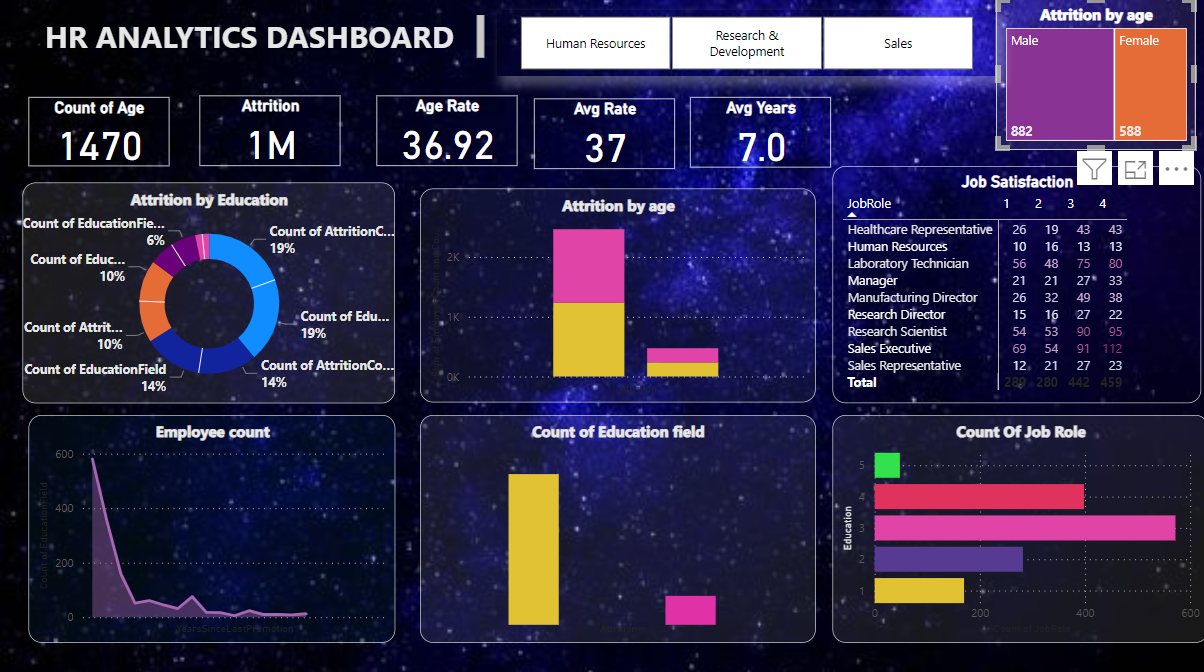

The dashboard page shown, as its layout file describes it:
{"tool":"powerbi","page":{"name":"Page 1","canvas":[1280,720],"ordinal":0},"visuals":[{"type":"card","title":"Count of Age","fields":{"Values":["CountNonNull(hr analytics (2).Age)"]},"box":[30.2,107.6,149.1,73.6],"z":0},{"type":"card","title":"Attrition","fields":{"Values":["Sum(hr analytics (2).DailyRate)"]},"box":[211.4,106.5,149.4,74.7],"z":1000},{"type":"card","title":"Age Rate","fields":{"Values":["hr analytics (2).agerate"]},"box":[398.9,106.5,149.4,74.7],"z":2000},{"type":"card","title":"Avg Rate","fields":{"Values":["Avg(hr analytics (2).Age)"]},"box":[565.8,109.7,149.4,74.7],"z":3000},{"type":"card","title":"Avg Years","fields":{"Values":["Avg(hr analytics (2).YearsAtCompany)"]},"box":[731.1,108.1,149.4,74.7],"z":4000},{"type":"donutChart","title":"Attrition by Education","fields":{"Y":["CountNonNull(hr analytics (2).AttritionCount)","CountNonNull(hr analytics (2).EducationField)"],"Category":["hr analytics (2).Education","hr analytics (2).Attrition"]},"box":[24.5,198.2,394.6,234.1],"z":5000},{"type":"columnChart","title":"Attrition by age","fields":{"Y":["Sum(hr analytics (2).EmployeeCount)","CountNonNull(hr analytics (2).EducationField)"],"Category":["hr analytics (2).Attrition"]},"box":[445.5,205.8,419.1,226.5],"z":6000},{"type":"pivotTable","title":"Job Satisfaction","fields":{"Rows":["hr analytics (2).JobRole"],"Columns":["hr analytics (2).JobSatisfaction"],"Values":["Sum(hr analytics (2).EmployeeCount)"]},"box":[881.7,181.2,390.8,251.1],"z":7000},{"type":"stackedAreaChart","title":"Employee count","fields":{"Category":["hr analytics (2).YearsSinceLastPromotion"],"Y":["CountNonNull(hr analytics (2).EducationField)"]},"box":[30.2,445.5,388.9,241.7],"z":8000},{"type":"clusteredBarChart","title":"Count Of Job Role","fields":{"Y":["CountNonNull(hr analytics (2).JobRole)"],"Category":["hr analytics (2).Education"]},"box":[881.7,445.5,398.3,241.7],"z":9000},{"type":"ribbonChart","title":"Count of Education field","fields":{"Category":["hr analytics (2).Attrition"],"Y":["Sum(hr analytics (2).EmployeeCount)"]},"box":[445.5,445.5,419.1,241.7],"z":10000},{"type":"treemap","title":"Attrition by age","fields":{"Group":["hr analytics (2).Gender"],"Values":["CountNonNull(hr analytics (2).AttritionCount)"]},"box":[1055.3,3.8,211.4,160.5],"z":11000},{"type":"slicer","fields":{"Values":["hr analytics (2).Department"]},"box":[526.7,15.1,528.6,69.9],"z":12000},{"type":"textbox","box":[24.5,15.1,494.6,69.9],"z":13000}]}

Visuals, with their boxes in screenshot pixels (x1, y1, x2, y2), scaled from the page's 1280x720 canvas onto the 1204x672 screenshot:
"Count of Age" card: 28,100,169,169
"Attrition" card: 199,99,339,169
"Age Rate" card: 375,99,516,169
"Avg Rate" card: 532,102,673,172
"Avg Years" card: 688,101,828,171
"Attrition by Education" donutChart: 23,185,394,403
"Attrition by age" columnChart: 419,192,813,403
"Job Satisfaction" pivotTable: 829,169,1197,403
"Employee count" stackedAreaChart: 28,416,394,641
"Count Of Job Role" clusteredBarChart: 829,416,1203,641
"Count of Education field" ribbonChart: 419,416,813,641
"Attrition by age" treemap: 993,4,1191,153
slicer - hr analytics (2).Department: 495,14,993,79
textbox: 23,14,488,79
